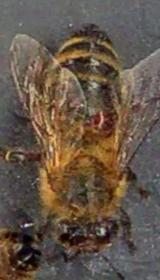varroa_mite: (86, 104, 120, 140)
